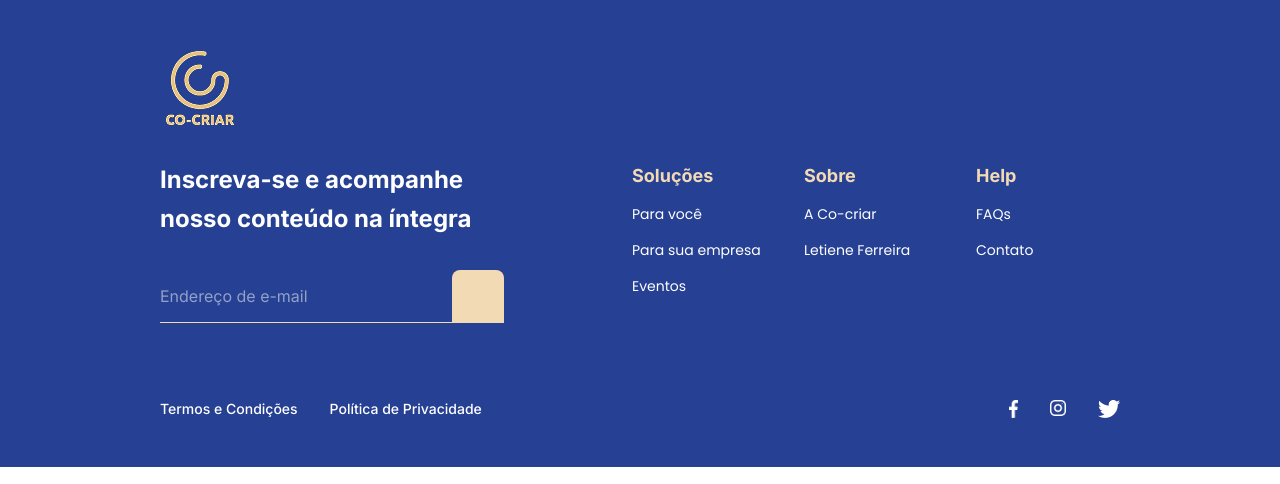
Test case: components > Footer › error email
In the field with test id "email-subscribe": {"x": 306, "y": 296} 160,270 -> 452,322, type "testeemail.com"
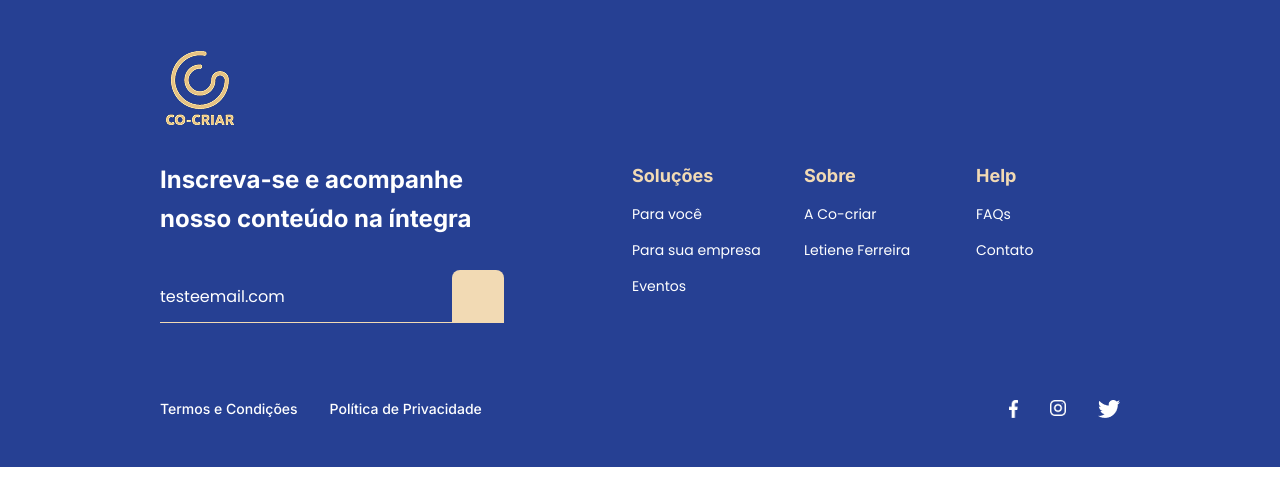
Click the button with test id "submit-subscribe": {"x": 478, "y": 296} 452,270 -> 504,322
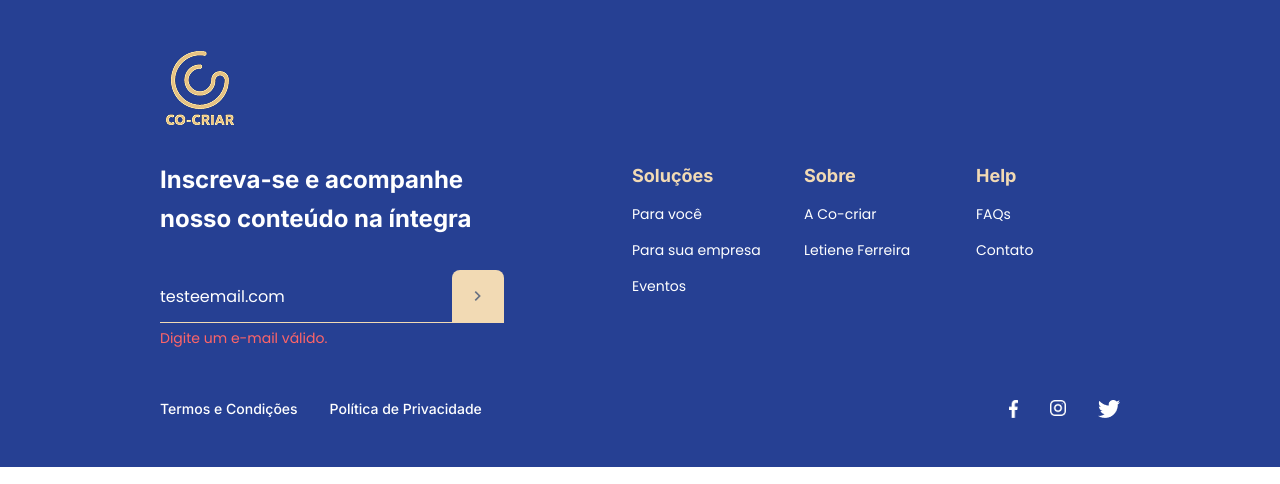
expect the text "Digite um e-mail válido." is shown: met, box 160,328 -> 327,348
